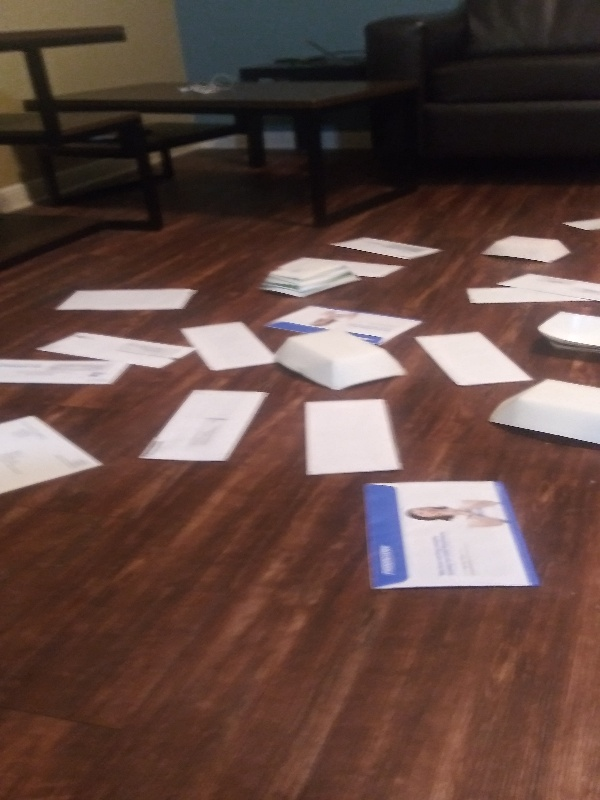plate: (272, 325, 412, 394), (483, 377, 600, 454), (256, 254, 364, 302), (532, 307, 600, 360), (481, 230, 575, 268)
